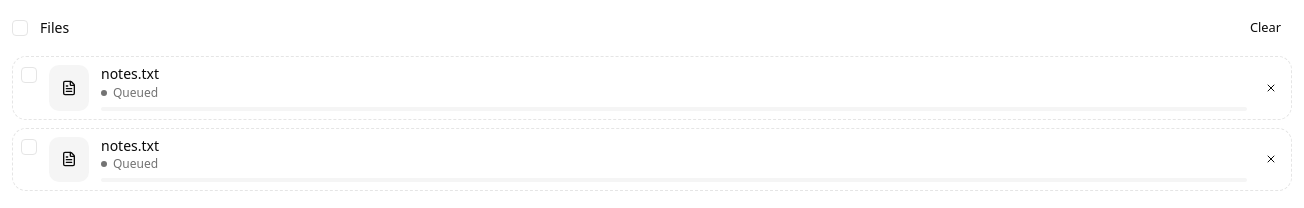
it: selecting files › picks every row from the header checkbox
This screenshot has width=1304, height=208.
Click the checkbox named "Select all files": (20, 28) [12, 20, 28, 36]
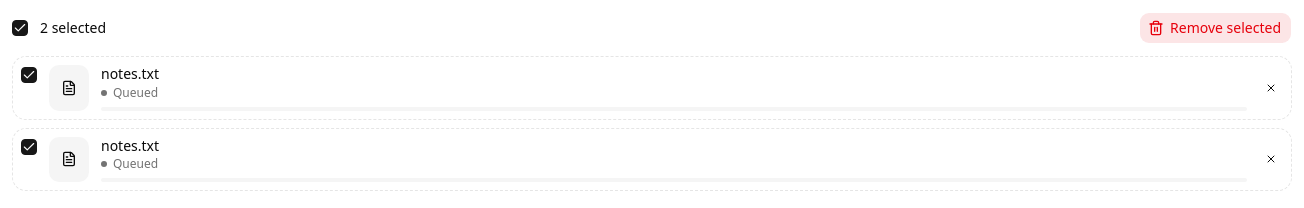
Result: the text "2 selected" is shown at [40, 18, 106, 38]
